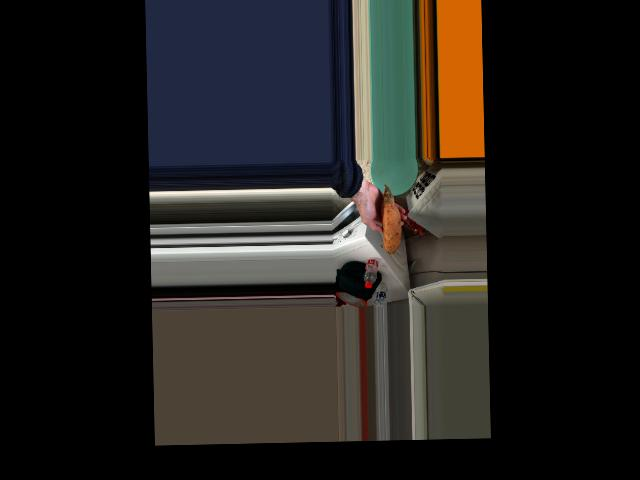sweet_potato: (376, 198, 401, 260)
